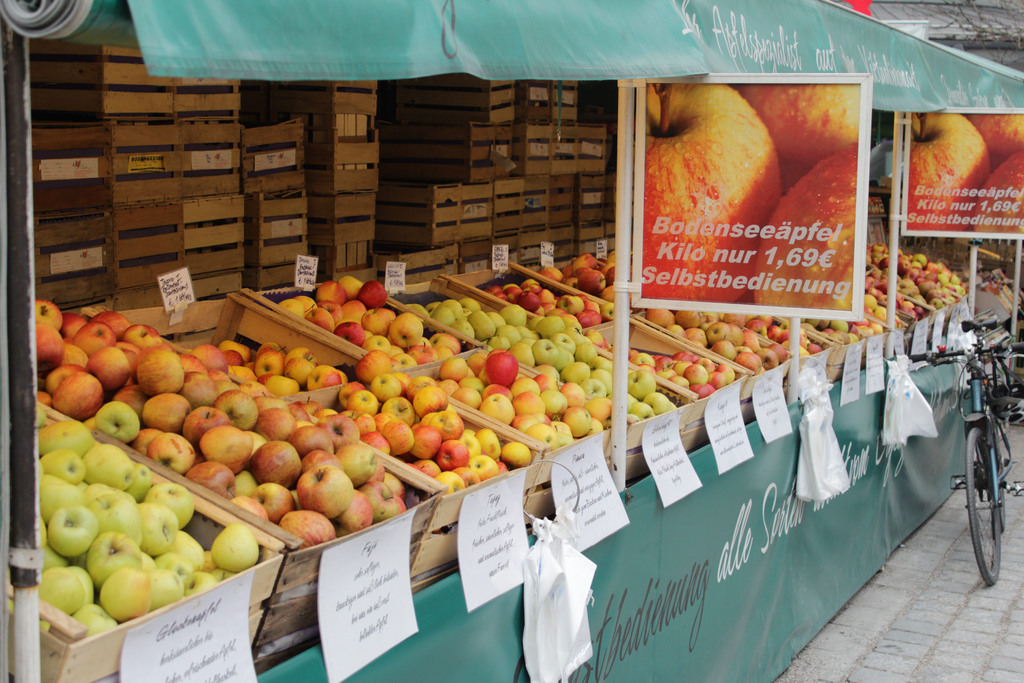Apple: (4, 246, 967, 640), (646, 83, 784, 301), (757, 137, 851, 309), (736, 84, 858, 184), (910, 109, 992, 230), (971, 151, 1023, 235), (295, 461, 352, 518), (968, 110, 1021, 163)
